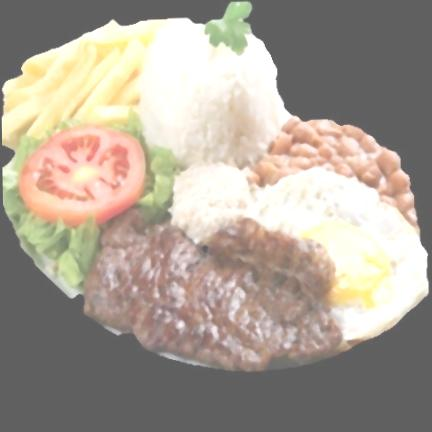beans: (248, 116, 418, 234)
egg: (247, 168, 428, 342)
meat: (84, 209, 341, 370)
potato: (1, 20, 168, 149)
rice: (138, 19, 281, 167), (169, 163, 252, 243)
salad: (2, 135, 98, 296)
tomato: (18, 126, 144, 227)
